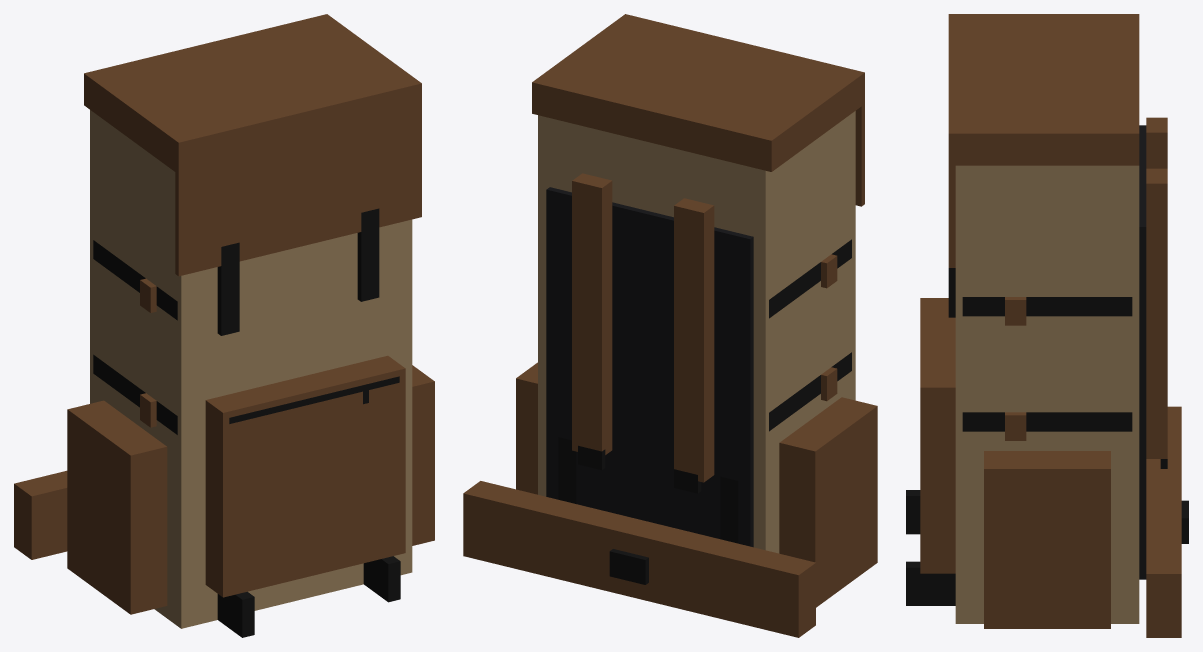
Rendered from backpack_hunting.glb.
The picture shows the model from 3 angles, left to right: view 1: azimuth 30°, elevation 25°; view 2: azimuth 150°, elevation 25°; view 3: azimuth 270°, elevation 25°; orthographic projection. The views are drawn at different scales.
Visible parts, largest first — view 1: backpack_hunting:compound; view 2: backpack_hunting:compound; view 3: backpack_hunting:compound.
Boxes of the visible parts, box(x1,y1,x2,y2) form: backpack_hunting:compound: box(14, 14, 434, 637); backpack_hunting:compound: box(463, 14, 877, 637); backpack_hunting:compound: box(906, 14, 1188, 637).
Bounding box in the file's own units: 0.56 × 0.77 × 0.4.
